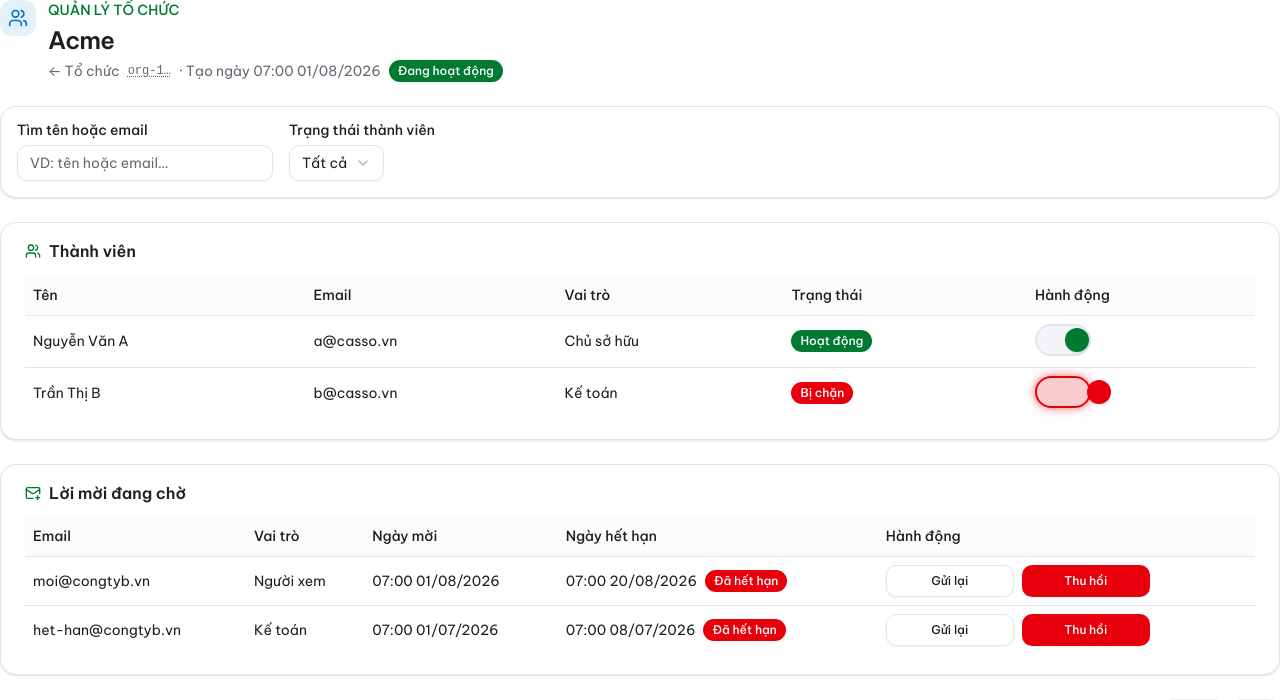
Scenario: AdminOrganizationMembersPage › member table › warns explicitly when blocking the organization owner
Expected: the text "Nguyễn Văn A" is shown, [33,332,129,350]
What coordinates should you click on to do the following:
click the switch named "Chặn Nguyễn Văn A"
I would click on:
 (1063, 340)
Its box is [1035,324,1091,356].
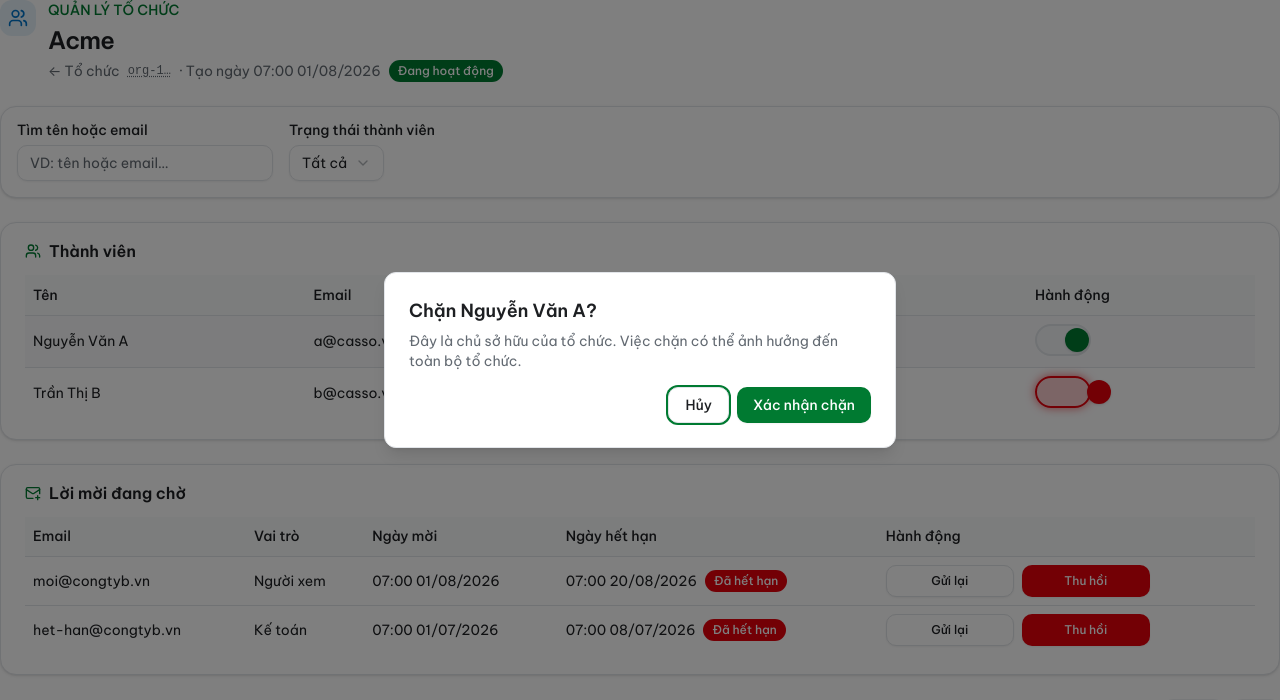
Result: the text "chủ sở hữu" is shown at [409,332,838,370]
